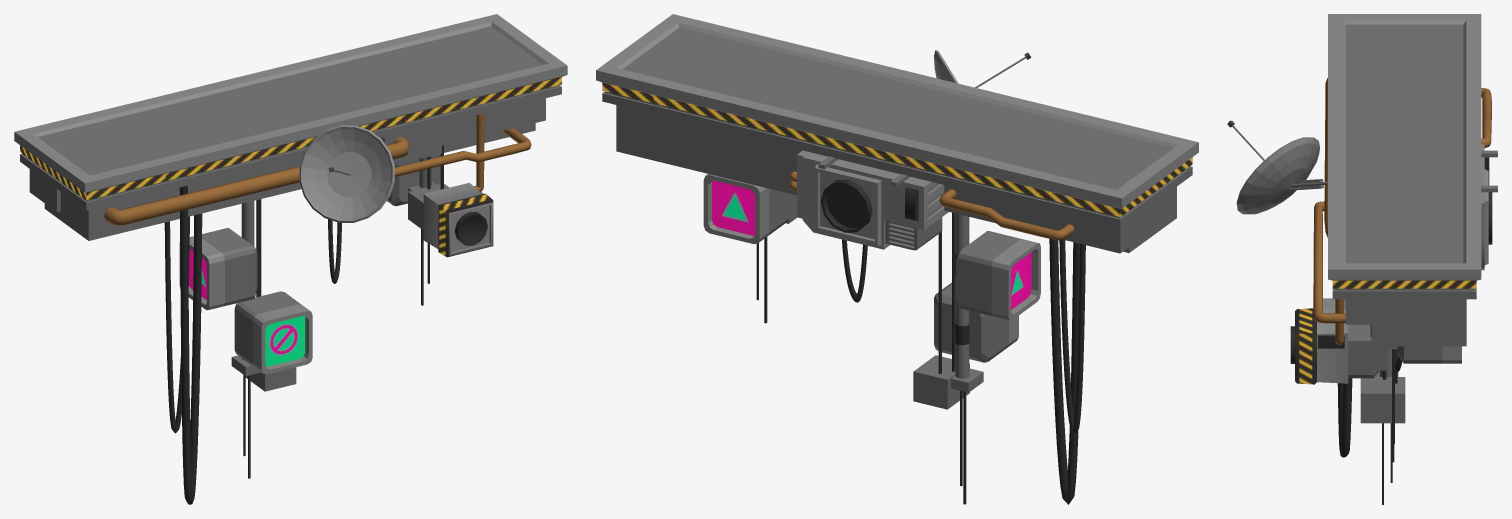
The model's file is Platform_4x1.glb.
The picture shows the model from 3 angles, left to right: view 1: azimuth 30°, elevation 25°; view 2: azimuth 150°, elevation 25°; view 3: azimuth 270°, elevation 25°; orthographic projection. The views are drawn at different scales.
Parts seen in each view (by area): view 1: Platform_4x1; view 2: Platform_4x1; view 3: Platform_4x1.
Part boxes in pixels (<box>): Platform_4x1: <box>14,14,567,504</box>; Platform_4x1: <box>596,14,1198,504</box>; Platform_4x1: <box>1227,14,1497,504</box>.
Size of the model in its own units: 3.86 by 2.81 by 1.73.
Materials: 6 (1 with a texture image).
